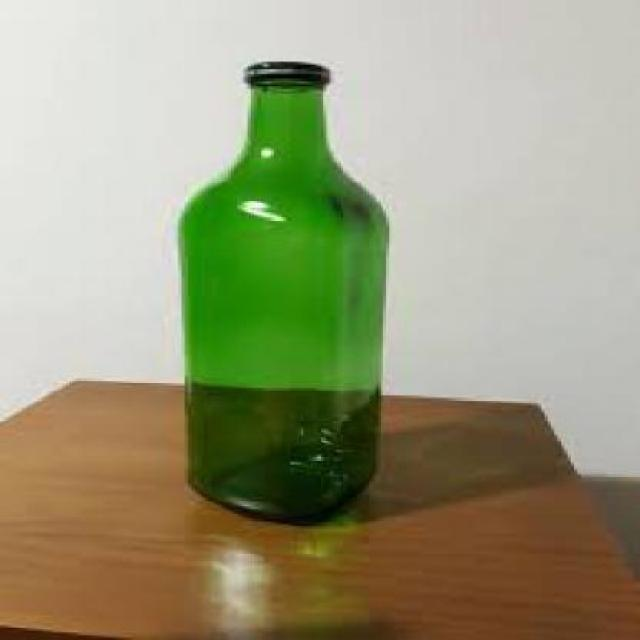kaca: (176, 57, 387, 521)
